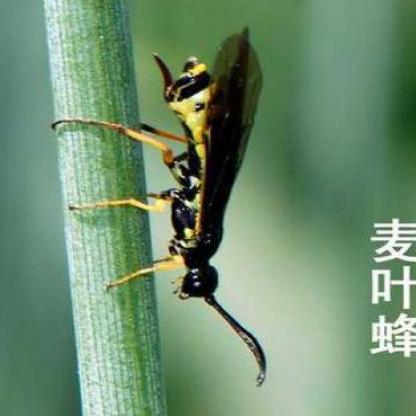sawfly: (48, 27, 276, 390)
